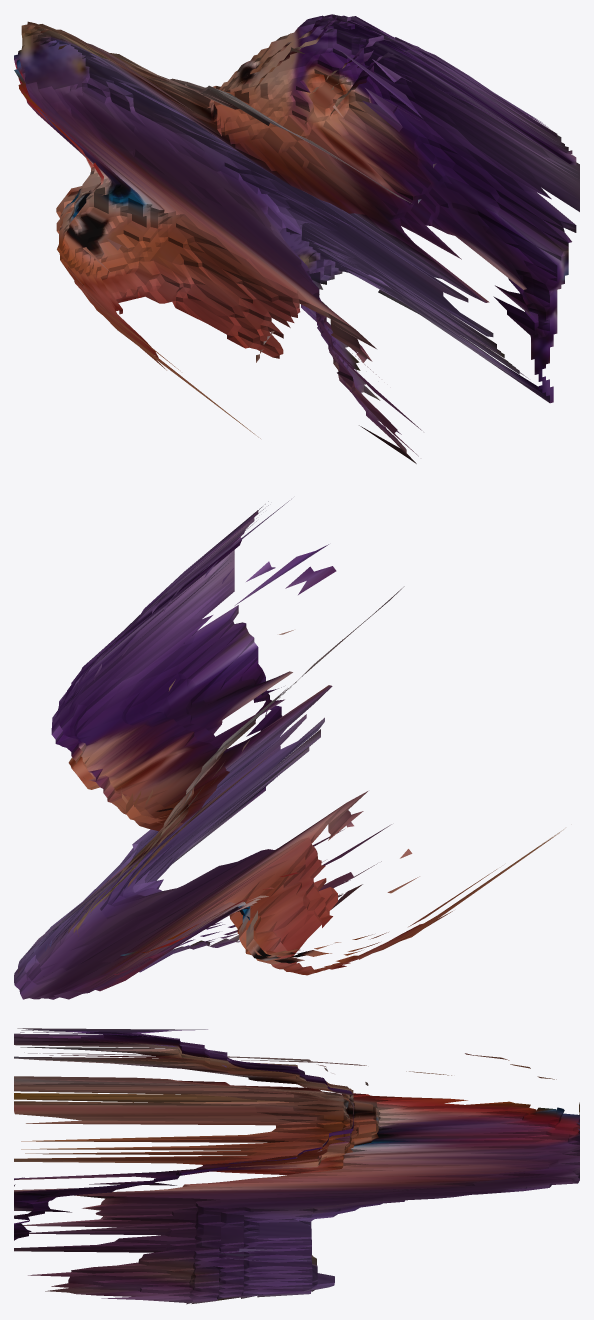
File: frame_00007.glb
3 views of the same model, one above another, from view 1: azimuth 30°, elevation 25°; view 2: azimuth 150°, elevation 25°; view 3: azimuth 270°, elevation 25° (orthographic). The views are drawn at different scales.
Visible parts, largest first — view 1: geometry_0; view 2: geometry_0; view 3: geometry_0.
Part boxes in pixels (<box>): geometry_0: <box>14,14,579,463</box>; geometry_0: <box>14,499,563,999</box>; geometry_0: <box>14,1028,579,1304</box>.
Size of the model in its own units: 0.0872 by 0.0863 by 0.16.
1 material, 1 textured.
